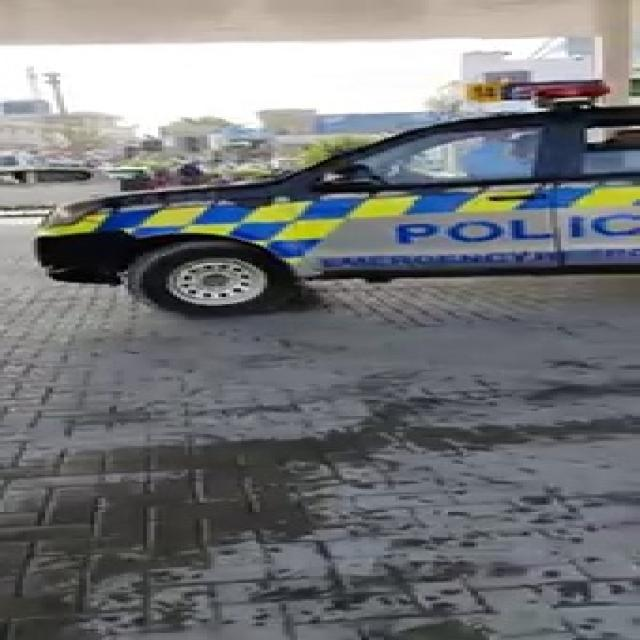police: (22, 23, 628, 324)
